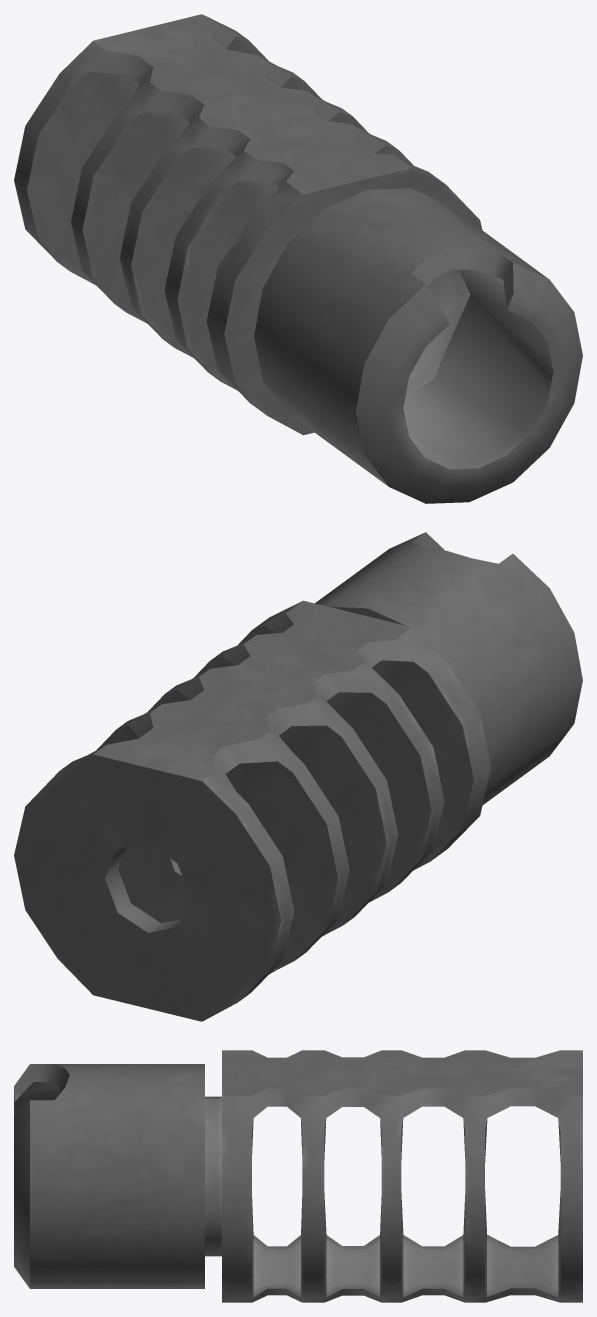
File: IG_Acc_Muzzle_AR_REC_3.fbx
3 views of the same model, one above another, from view 1: azimuth 30°, elevation 25°; view 2: azimuth 150°, elevation 25°; view 3: azimuth 270°, elevation 25° (orthographic). The views are drawn at different scales.
Visible parts, largest first — view 1: Muzzle_AR_REC_3; view 2: Muzzle_AR_REC_3; view 3: Muzzle_AR_REC_3.
Boxes of the visible parts, x1,y1,x2,y2 form: Muzzle_AR_REC_3: (14, 14, 582, 503); Muzzle_AR_REC_3: (14, 532, 582, 1021); Muzzle_AR_REC_3: (14, 1050, 582, 1302).
Size of the model in its own units: 0.0723 by 0.0622 by 0.1551.
